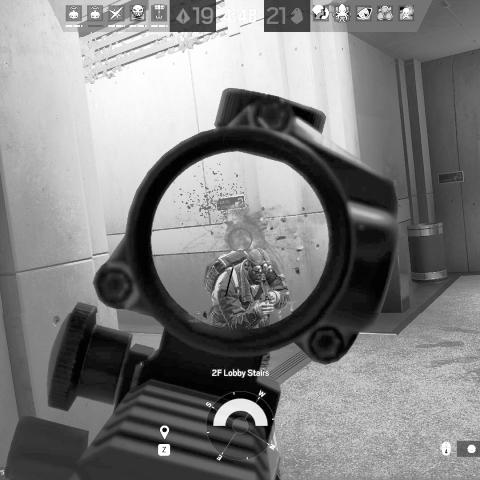Character: (202, 247, 292, 332)
Friend_label: (276, 289, 300, 305), (188, 309, 209, 324)
Head: (242, 248, 273, 286)
